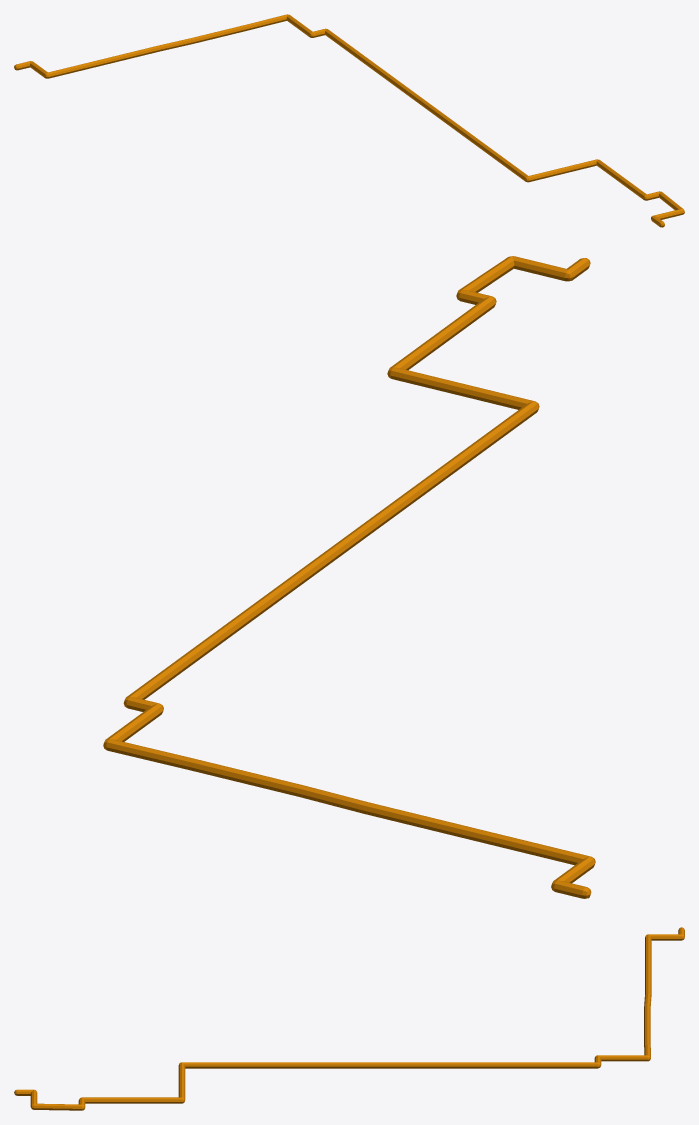
3 renders of one model, top to bottom at view 1: azimuth 30°, elevation 25°; view 2: azimuth 150°, elevation 25°; view 3: azimuth 270°, elevation 25°, orthographic. The views are drawn at different scales.
Size of the model in its own units: 1280 by 20 by 2017.
